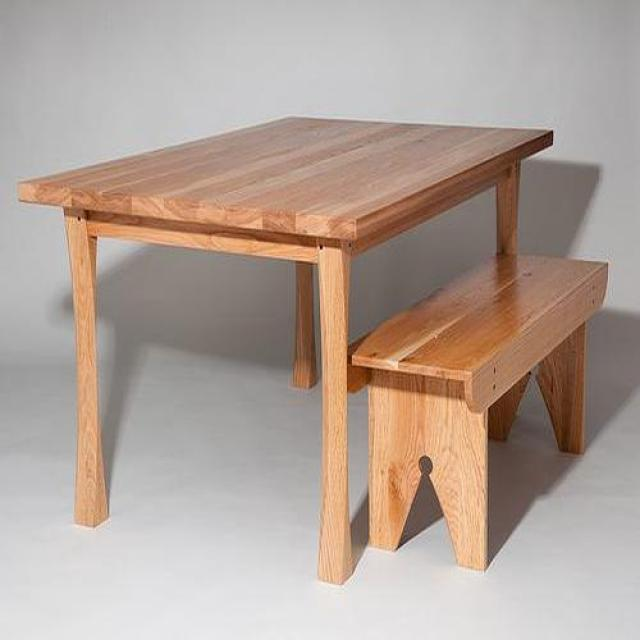table: (17, 118, 556, 588)
